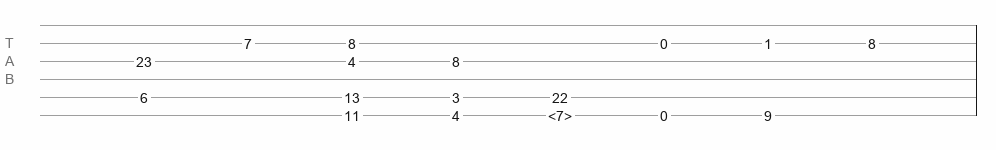0: (660, 36, 668, 46), (660, 108, 668, 118)
1: (764, 36, 772, 46)
11: (344, 108, 360, 118)
13: (344, 90, 360, 100)
22: (552, 90, 568, 100)
23: (136, 54, 152, 64)
3: (452, 90, 460, 100)
4: (348, 54, 356, 64), (452, 108, 460, 118)
6: (140, 90, 148, 100)
7: (244, 36, 252, 46)
8: (348, 36, 356, 46), (452, 54, 460, 64), (868, 36, 876, 46)
9: (764, 108, 772, 118)
harmonic: (548, 108, 572, 118)
